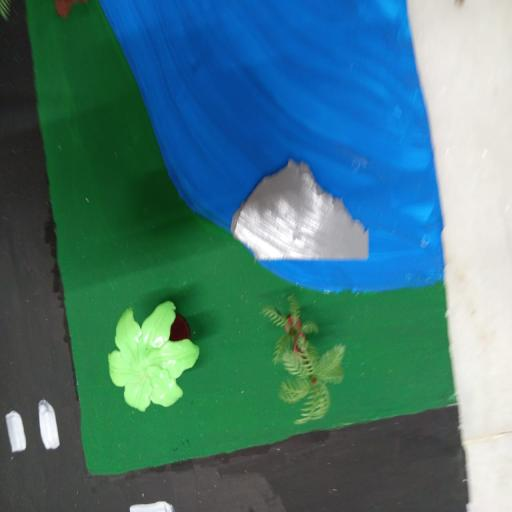encroachment: (228, 154, 381, 271)
